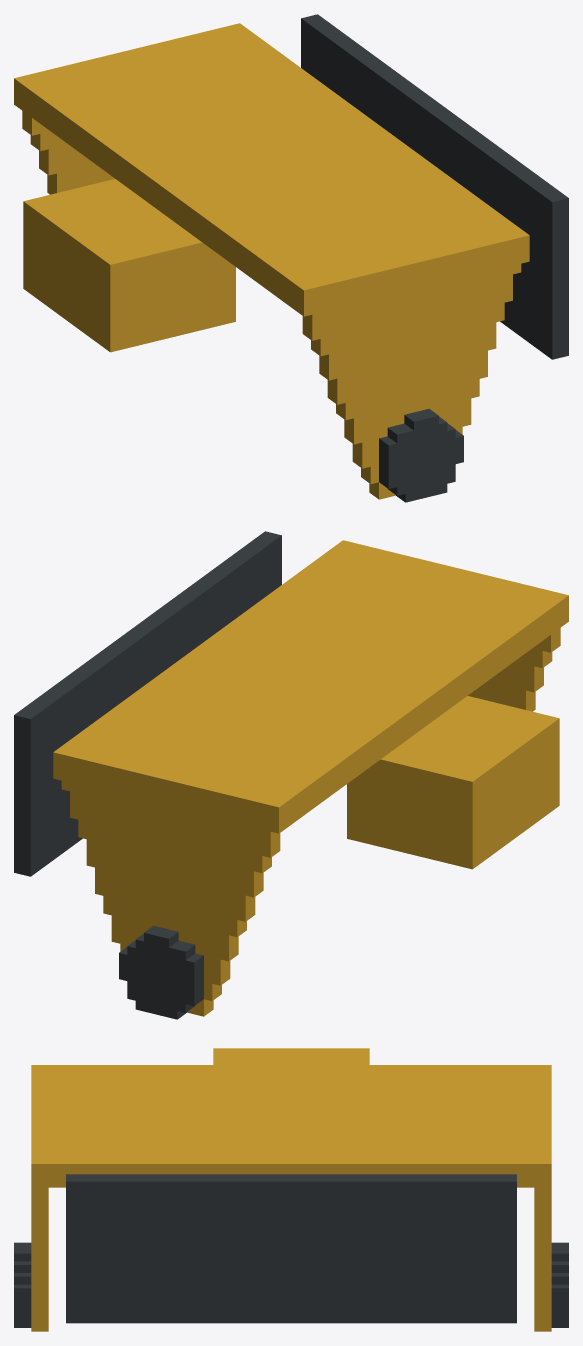
Rendered from road_roller_front_yoke.glb.
The picture shows the model from 3 angles, top to bottom: view 1: azimuth 30°, elevation 25°; view 2: azimuth 150°, elevation 25°; view 3: azimuth 270°, elevation 25°; orthographic projection. The views are drawn at different scales.
Visible parts, largest first — view 1: body:compound; view 2: body:compound; view 3: body:compound.
Boxes of the visible parts, bbox=[...] form: body:compound: bbox=[14, 14, 568, 502]; body:compound: bbox=[14, 531, 568, 1019]; body:compound: bbox=[14, 1048, 568, 1331].
Size of the model in its own units: 1.41 by 0.8438 by 2.
